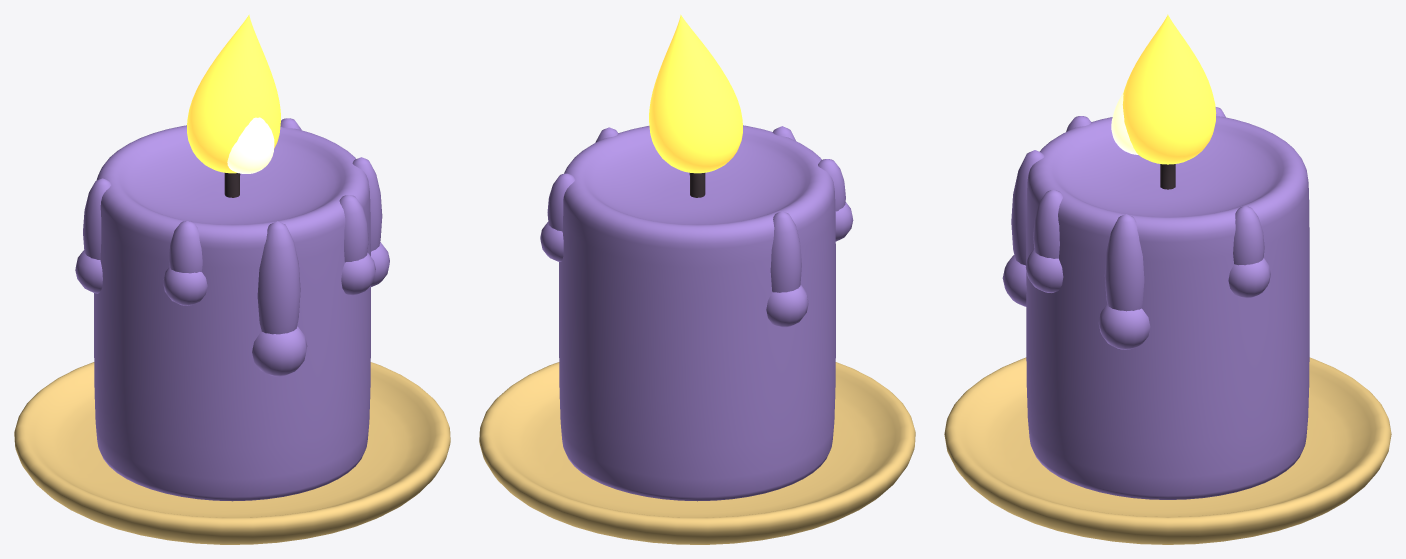
The model's file is 07-candle.glb.
3 views of the same model, side by side, from view 1: azimuth 30°, elevation 25°; view 2: azimuth 150°, elevation 25°; view 3: azimuth 270°, elevation 25° (orthographic). The views are drawn at different scales.
Parts seen in each view (by area): view 1: Candle; view 2: Candle; view 3: Candle.
Boxes of the visible parts, box(x1,y1,x2,y2) form: Candle: box(14, 14, 450, 544); Candle: box(479, 14, 915, 544); Candle: box(944, 14, 1391, 544).
Bounding box in the file's own units: 1.05 × 1.2 × 1.05.
